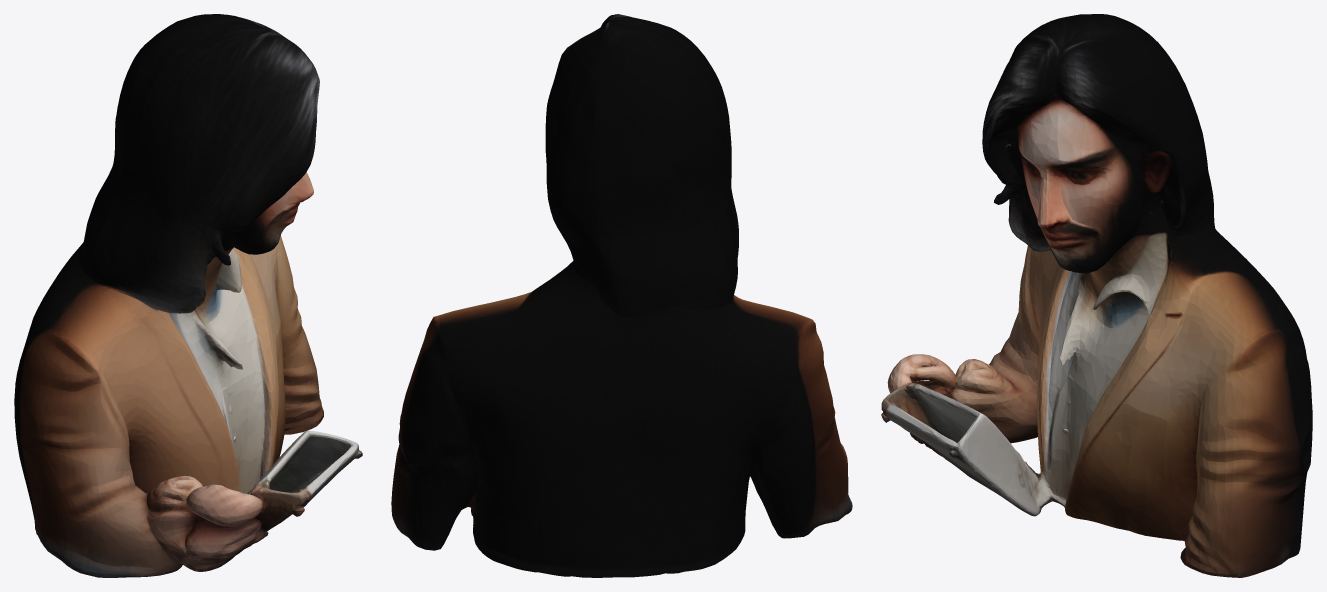
Rendered from professional-male.glb.
3 renders of one model, left to right at view 1: azimuth 30°, elevation 25°; view 2: azimuth 150°, elevation 25°; view 3: azimuth 270°, elevation 25°, orthographic. The views are drawn at different scales.
Parts seen in each view (by area): view 1: world; view 2: world; view 3: world.
Boxes of the visible parts, x1=… form: world: x1=14, y1=14, x2=362, y2=577; world: x1=391, y1=14, x2=852, y2=577; world: x1=881, y1=14, x2=1312, y2=577.
Size of the model in its own units: 0.7393 by 0.9466 by 0.7651.
1 material, 1 textured.
